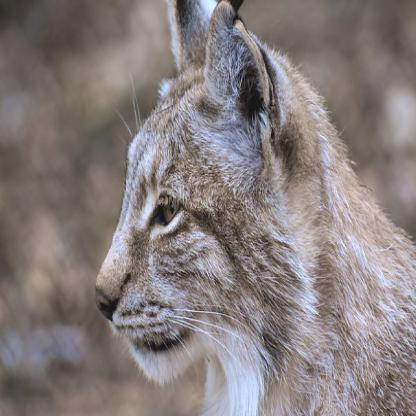cat: (93, 0, 416, 415)
